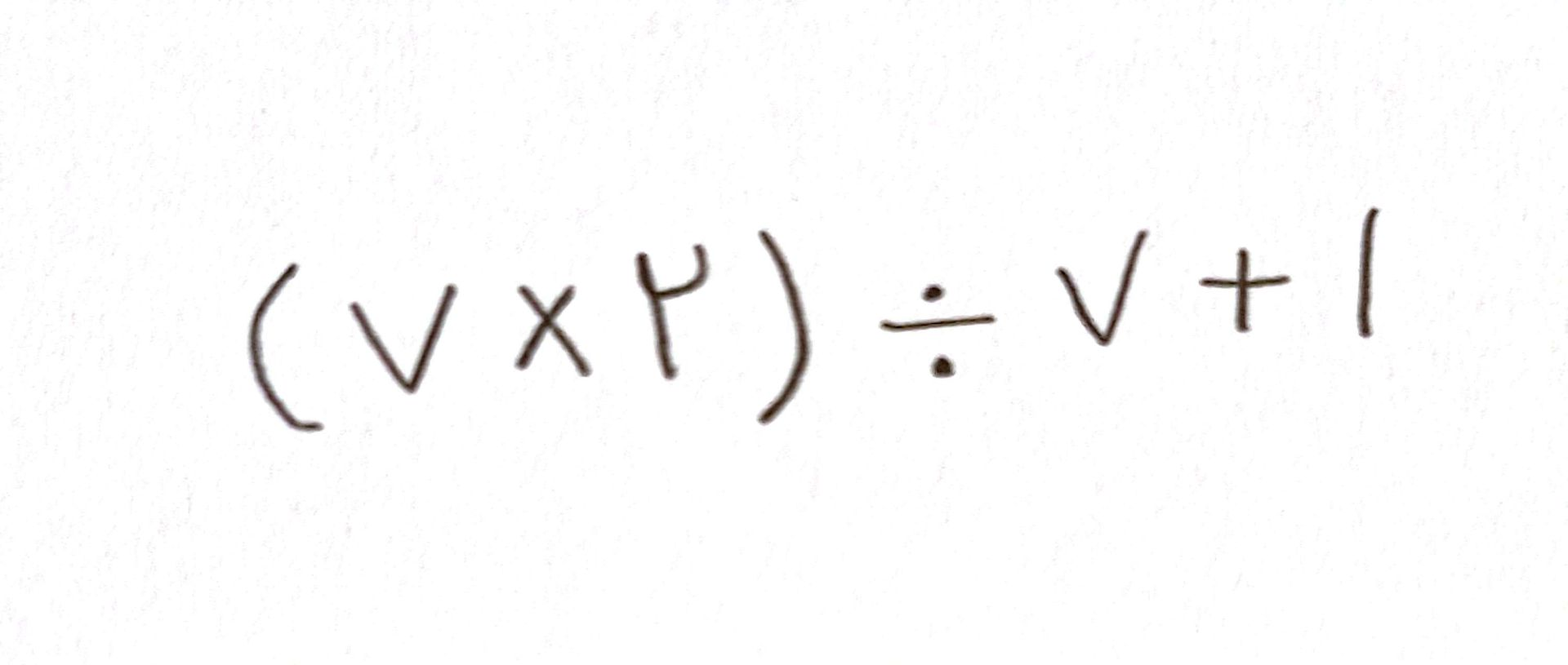character: (247, 261, 320, 430), (348, 282, 457, 395), (880, 281, 999, 377), (1056, 227, 1150, 348), (758, 229, 815, 428), (636, 244, 709, 389), (1199, 248, 1295, 332), (516, 284, 582, 370), (1358, 204, 1382, 337)
